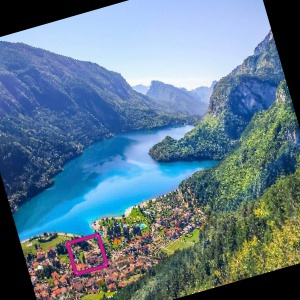square: (64, 231, 111, 278)
